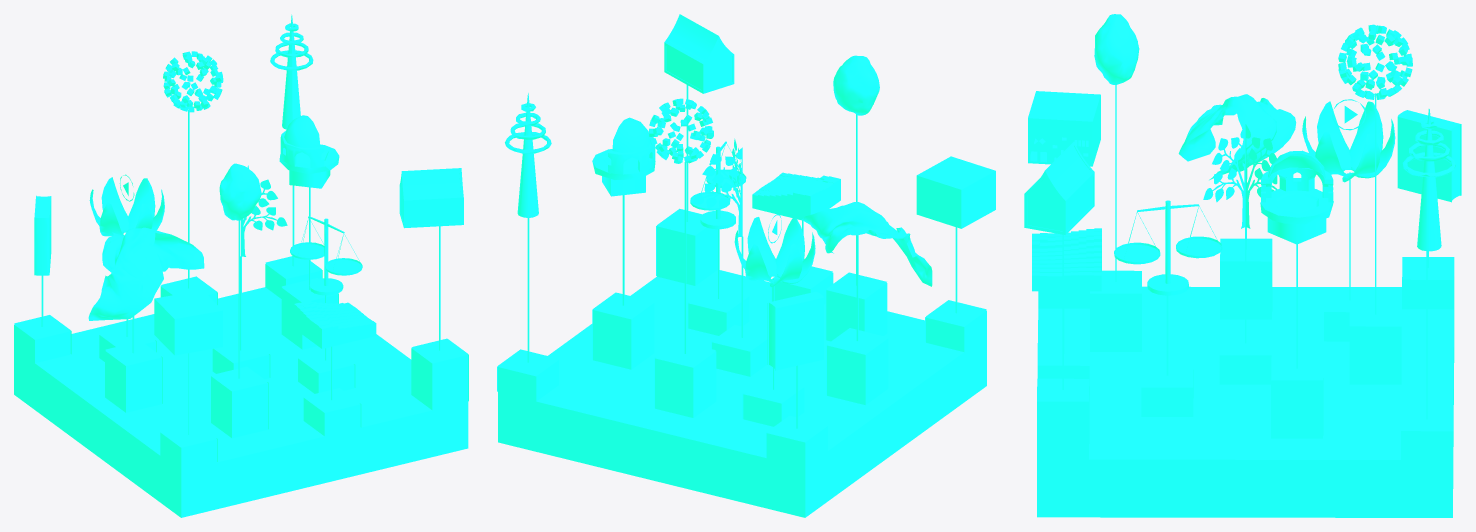
File: DIP23JS.glb
3 renders of one model, left to right at view 1: azimuth 30°, elevation 25°; view 2: azimuth 150°, elevation 25°; view 3: azimuth 270°, elevation 25°, orthographic. The views are drawn at different scales.
Visible parts, largest first — view 1: Object_46.002; view 2: Object_46.002; view 3: Object_46.002.
Boxes of the visible parts, x1,y1,x2,y2 form: Object_46.002: (14, 14, 468, 517); Object_46.002: (497, 14, 995, 517); Object_46.002: (1024, 14, 1461, 517).
Size of the model in its own units: 7.66 by 7.73 by 7.56.
